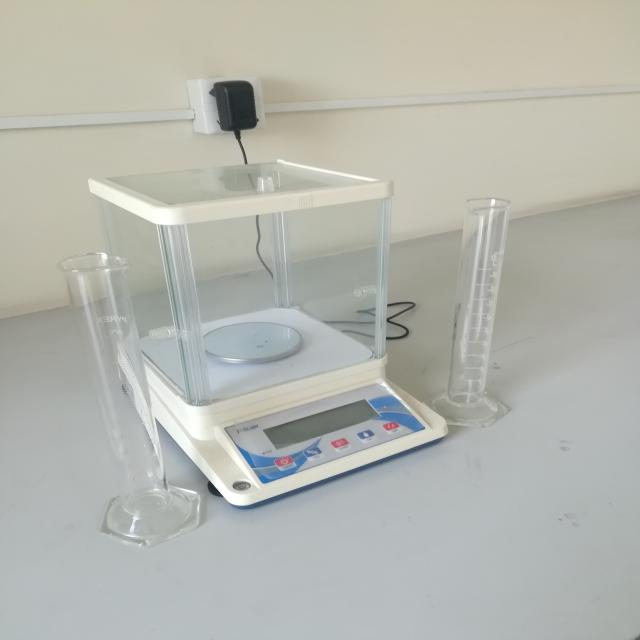Measuring_Cylinder: (22, 234, 235, 559), (403, 176, 538, 449)
